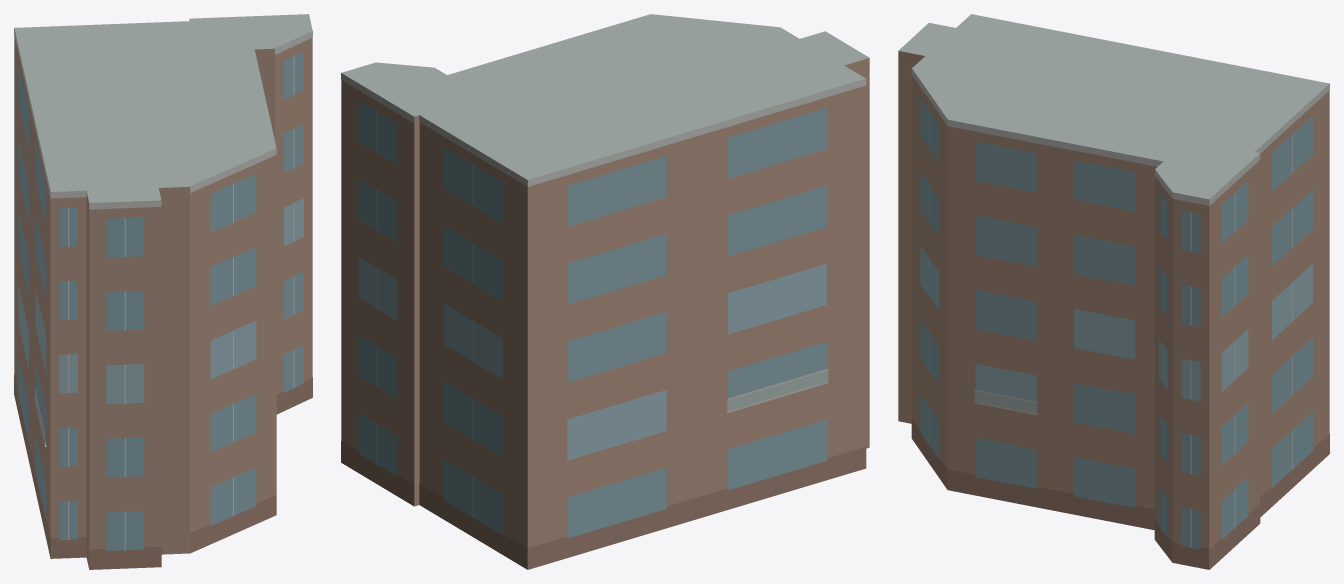
File: survey-upis-32669477.glb
The picture shows the model from 3 angles, left to right: view 1: azimuth 30°, elevation 25°; view 2: azimuth 150°, elevation 25°; view 3: azimuth 270°, elevation 25°; orthographic projection. The views are drawn at different scales.
Parts seen in each view (by area): view 1: survey-upis-32669477.tmp; view 2: survey-upis-32669477.tmp; view 3: survey-upis-32669477.tmp.
Boxes of the visible parts, x1,y1,x2,y2 form: survey-upis-32669477.tmp: (14,14,312,569); survey-upis-32669477.tmp: (341,14,869,569); survey-upis-32669477.tmp: (898,14,1329,569).
Bounding box in the file's own units: 14.93 × 13.9 × 14.69.
